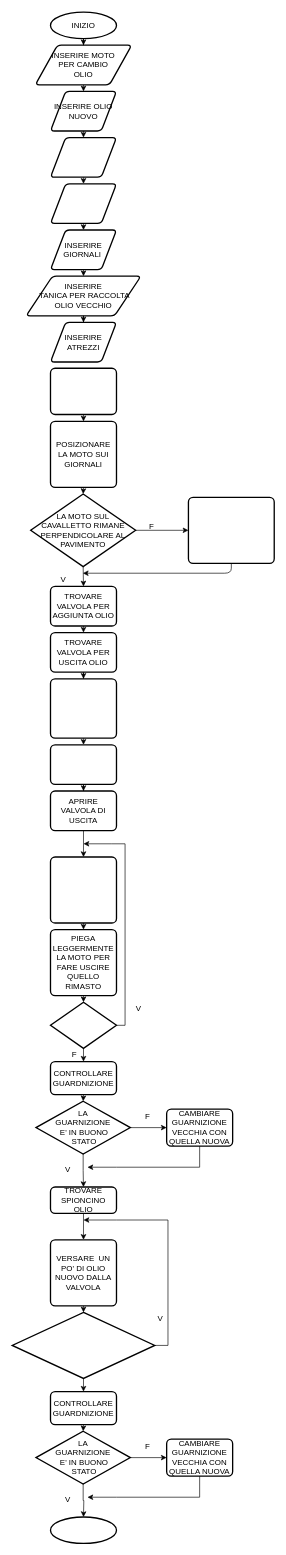
This 286x1555 diagram has some shape labels left out. Here are the shapes that lost their labels. From the top down, the centre of each, then its label:
At (x=83, y=157): "INSERIRE IMBUTO CON COLLO PIEGEVOLE".
At (x=83, y=203): "INSERIRE GUARNIZIONE NUOVA".
At (x=83, y=391): "POSIZIONARE GIORNALI PER TERRA".
At (x=231, y=530): "CHIAMARE QUALCUNO PER TENERE LA MOTO PERPENDICOLARE AL SUOLO".
At (x=83, y=708): "POSIZIONARE IMBUTO E TANICA VUOTA SOTTO ALLA VALVOLA DI USCITA".
At (x=83, y=764): "APRIRE VALVOLA DI ENTRATA".
At (x=83, y=889): "LASCIARE CHE OLIO FLUISCA NELLA TANICA".
At (x=83, y=1025): "ESCE ANCORA OLIO".
At (x=83, y=1345): "LIVELLO OLIO < LIVELLO INDICATO NELLO SPIONCINO".
At (x=83, y=1530): "FINE".
